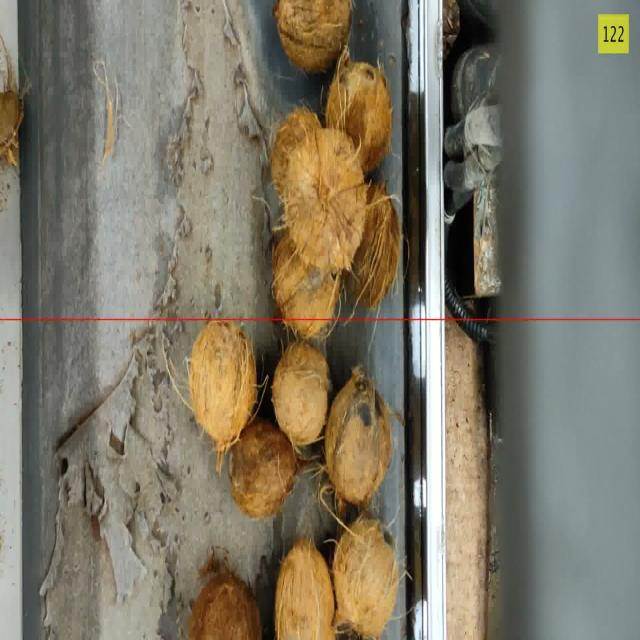Coconut-Conveyor-Belt: (281, 129, 366, 272), (189, 321, 256, 472), (325, 368, 392, 506), (332, 516, 399, 637), (272, 234, 340, 338), (327, 63, 391, 172), (229, 418, 298, 518), (348, 184, 401, 308), (272, 342, 330, 446), (275, 540, 334, 639), (274, 0, 351, 73), (189, 574, 261, 639), (271, 108, 320, 196), (0, 36, 23, 166)
